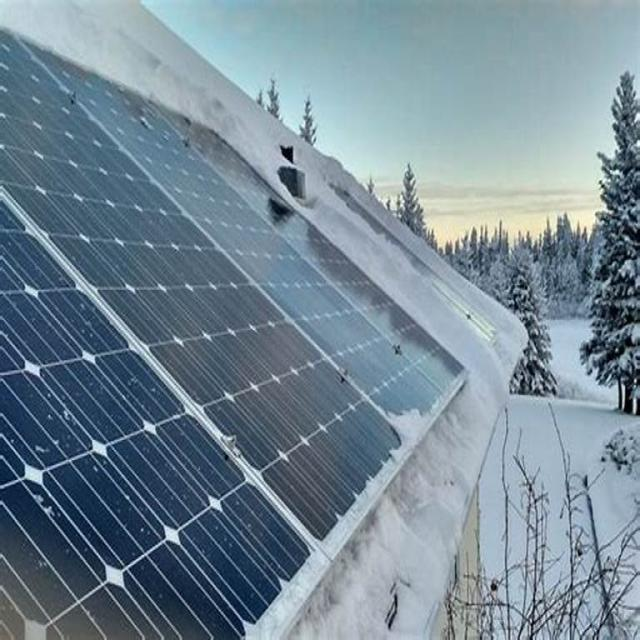snow covered: (16, 20, 527, 633)
